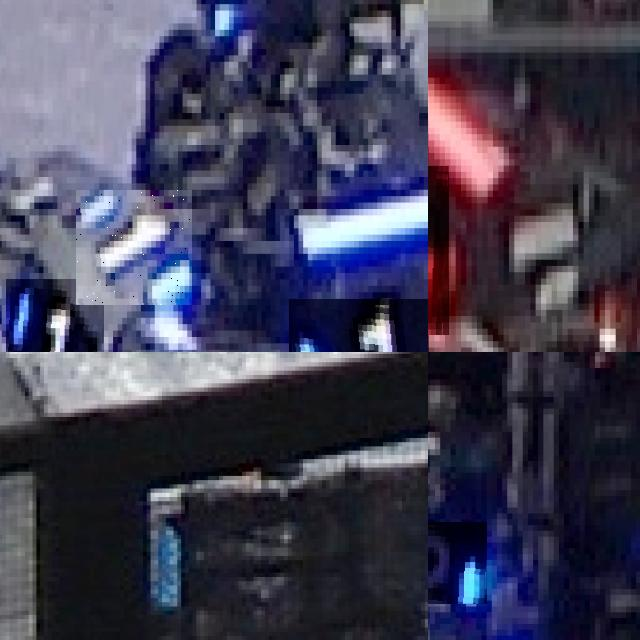B1: (76, 190, 192, 305), (289, 298, 428, 352), (6, 279, 103, 352)
B2: (428, 522, 486, 603)
R4: (428, 165, 450, 335)
